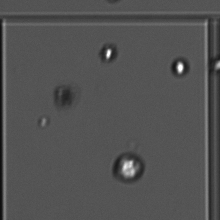Dead Cell: (49, 79, 80, 110)
Living Cell: (108, 150, 147, 185), (96, 39, 122, 65), (167, 56, 193, 80)
